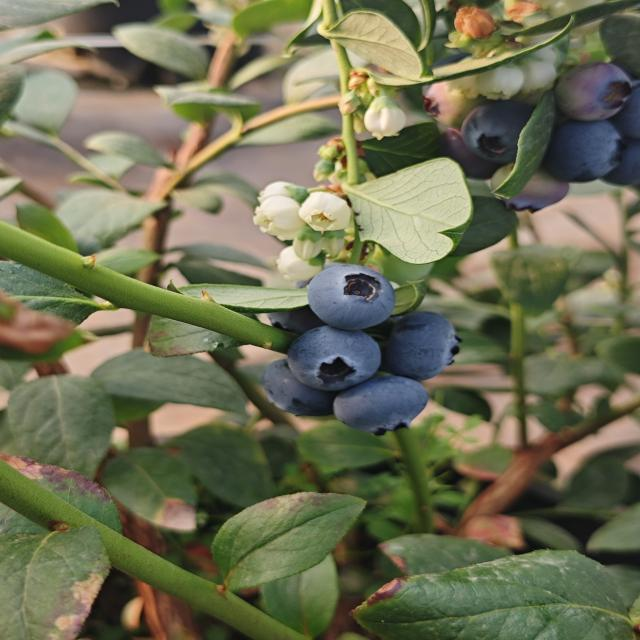ripe: (304, 262, 398, 331), (334, 378, 438, 434), (552, 117, 639, 182), (290, 330, 393, 383), (264, 355, 342, 413), (381, 318, 458, 375), (472, 114, 526, 159)
